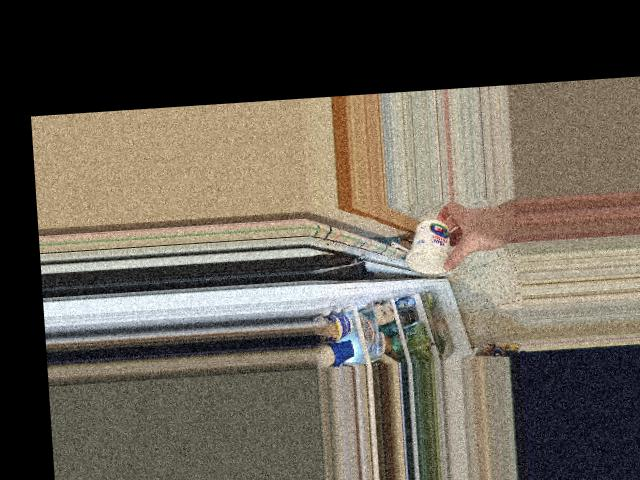cotage: (406, 217, 457, 274)
